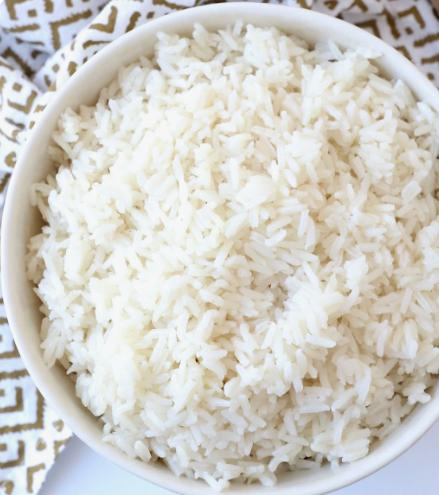makanan_berpati: (110, 91, 396, 421)
